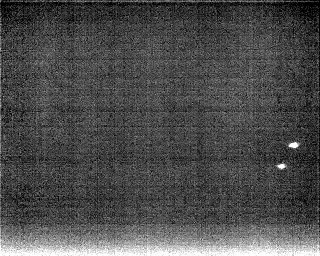BIRD: (275, 160, 288, 173)
